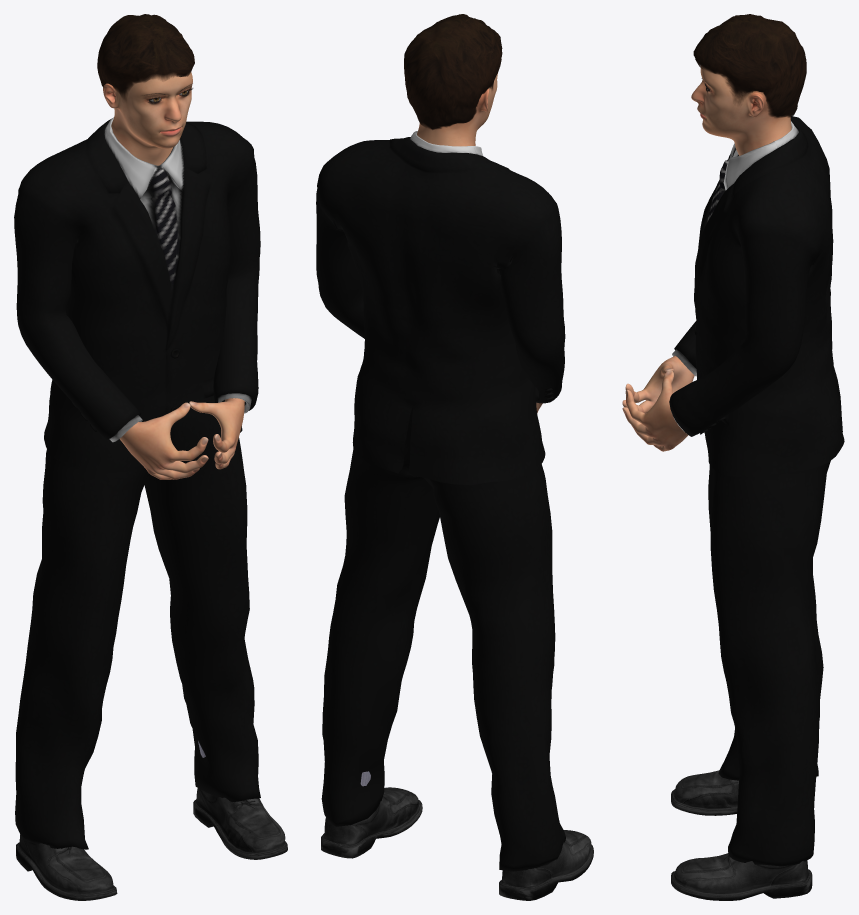
The model's file is groom_realistic.glb.
3 renders of one model, left to right at view 1: azimuth 30°, elevation 25°; view 2: azimuth 150°, elevation 25°; view 3: azimuth 270°, elevation 25°, orthographic.
Visible parts, largest first — view 1: groom.male_elegantsuit01, groom.body, groom.shoes04, groom.short02; view 2: groom.male_elegantsuit01, groom.short02, groom.shoes04, groom.body; view 3: groom.male_elegantsuit01, groom.body, groom.short02, groom.shoes04.
Part boxes in pixels (<box>): groom.male_elegantsuit01: <box>14,117,260,849</box>; groom.body: <box>103,72,244,479</box>; groom.shoes04: <box>16,741,287,900</box>; groom.short02: <box>97,14,194,100</box>; groom.male_elegantsuit01: <box>316,131,565,871</box>; groom.short02: <box>404,14,502,129</box>; groom.shoes04: <box>321,771,593,900</box>; groom.body: <box>417,73,542,413</box>; groom.male_elegantsuit01: <box>669,116,844,866</box>; groom.body: <box>622,66,791,451</box>; groom.short02: <box>693,14,806,117</box>; groom.shoes04: <box>671,770,812,900</box>.
Bounding box in the file's own units: 0.5336 × 1.8 × 0.4379.
Materials: 8 (8 with a texture image).
